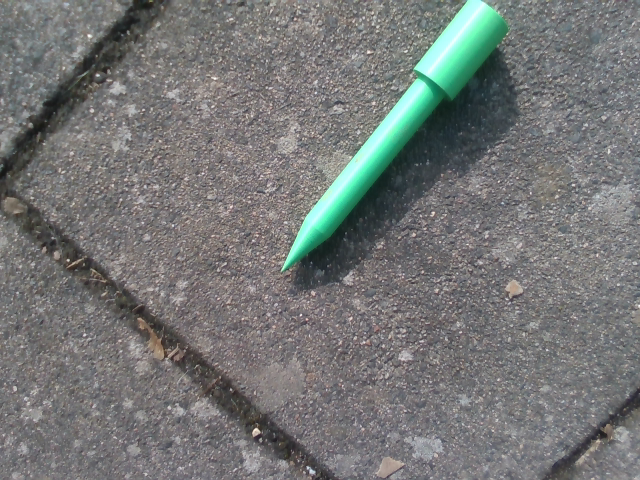Probe: (276, 1, 511, 278)
